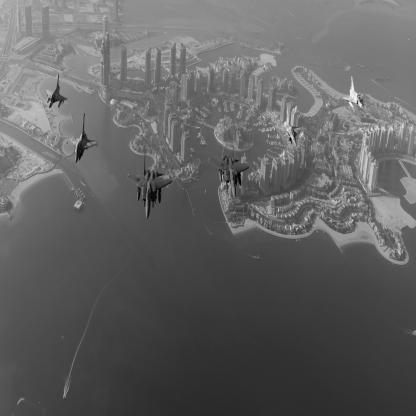F15: (128, 146, 174, 221), (209, 133, 251, 199)
Mirage2000: (47, 74, 69, 110), (343, 76, 365, 111)
Rafale: (68, 113, 100, 165), (275, 102, 304, 149)
